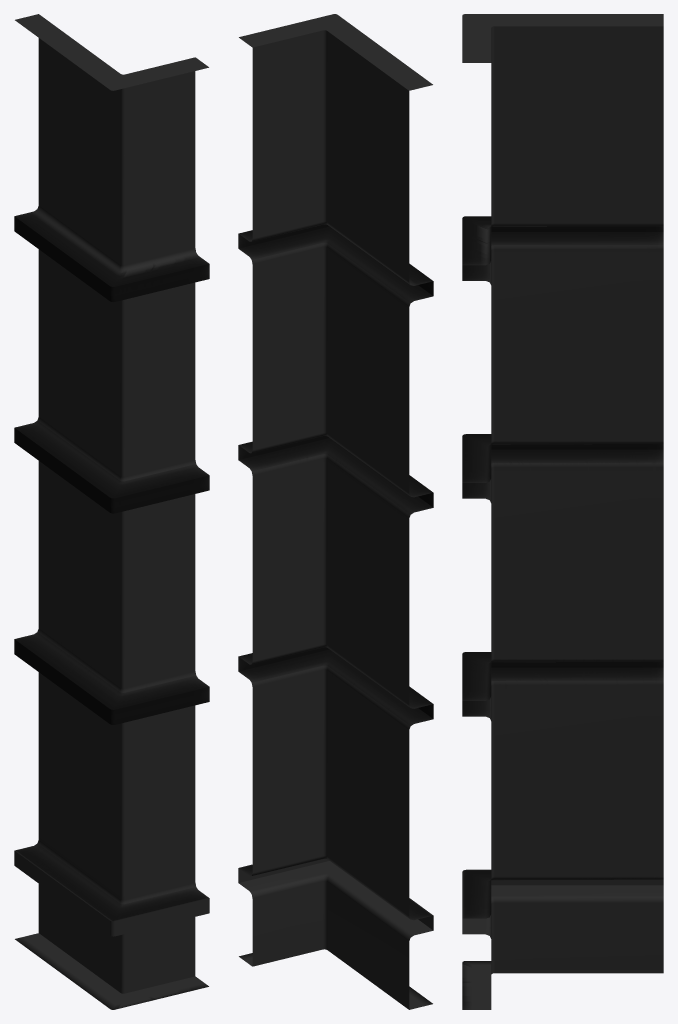
Rendered from COR_LIN_SW.fbx.
3 renders of one model, left to right at view 1: azimuth 30°, elevation 25°; view 2: azimuth 210°, elevation 25°; view 3: azimuth 270°, elevation 25°, orthographic. The views are drawn at different scales.
Parts seen in each view (by area): view 1: COR_LIN_SW; view 2: COR_LIN_SW; view 3: COR_LIN_SW.
Boxes of the visible parts, x1=… form: COR_LIN_SW: x1=14, y1=14, x2=209, y2=1009; COR_LIN_SW: x1=238, y1=14, x2=433, y2=1009; COR_LIN_SW: x1=462, y1=14, x2=663, y2=1009.
Bounding box in the file's own units: 0.5 × 4.5 × 0.866.
